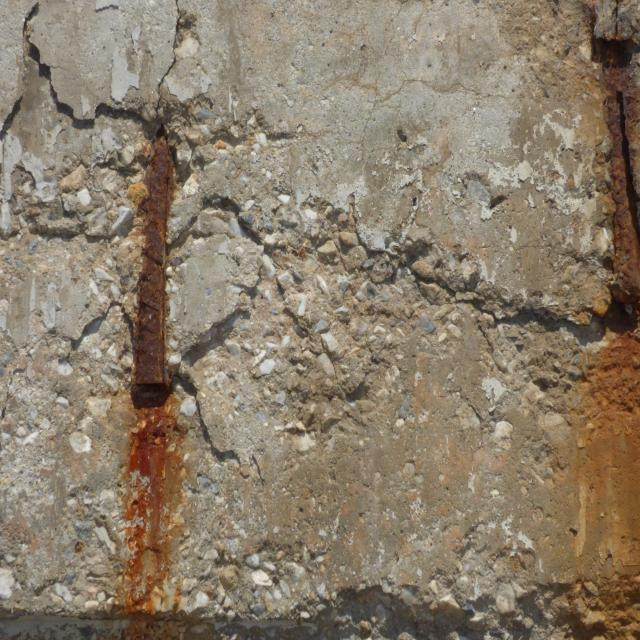corrosion: (78, 96, 239, 640), (508, 1, 640, 640)
